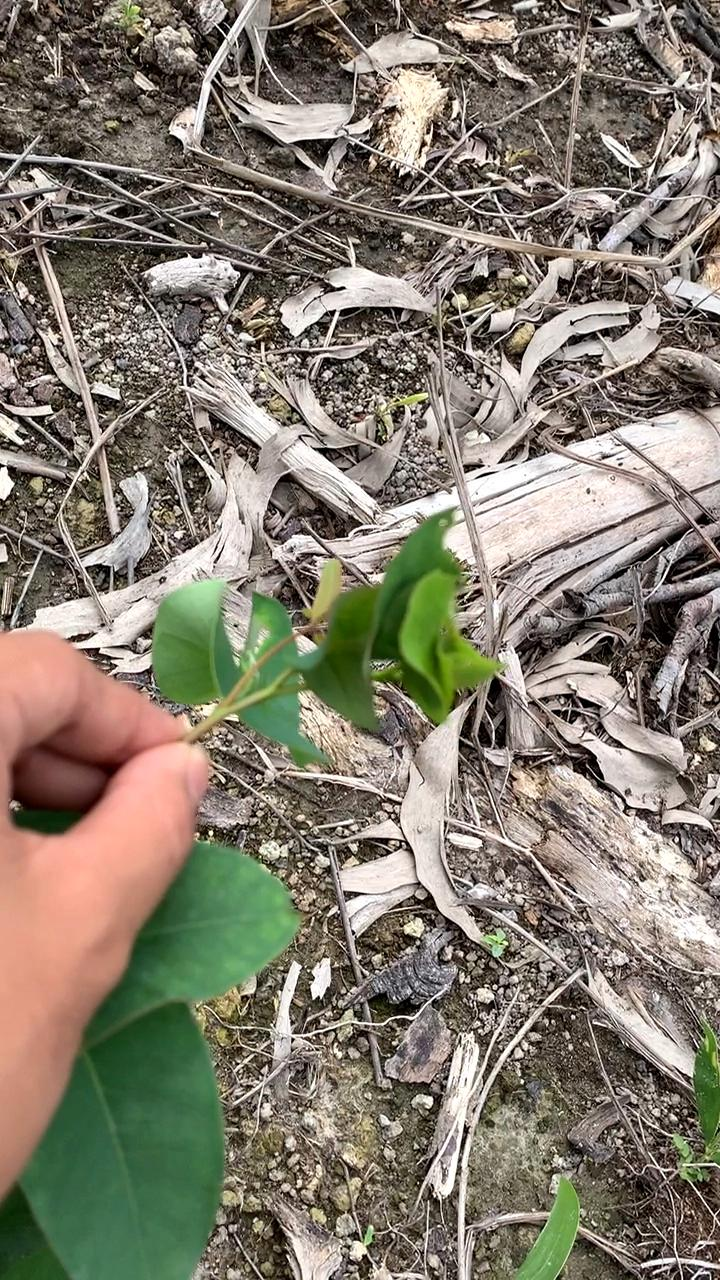Leaf Roller - Leaf: (269, 503, 523, 750)
